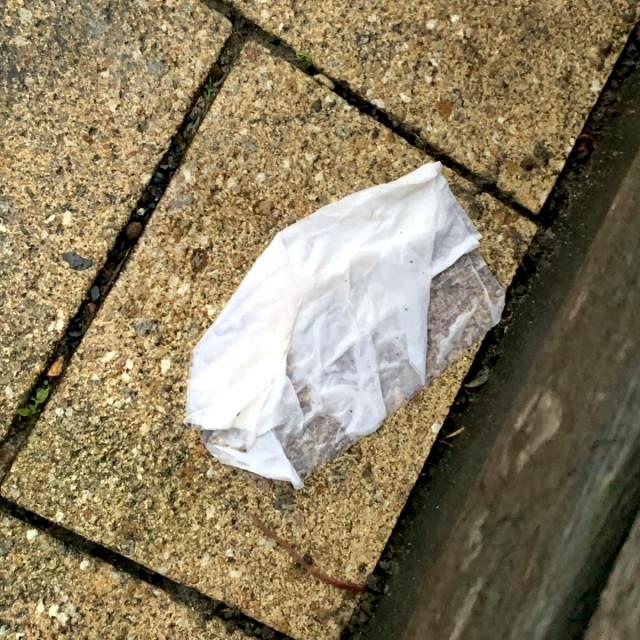Paper: (182, 158, 512, 492)
